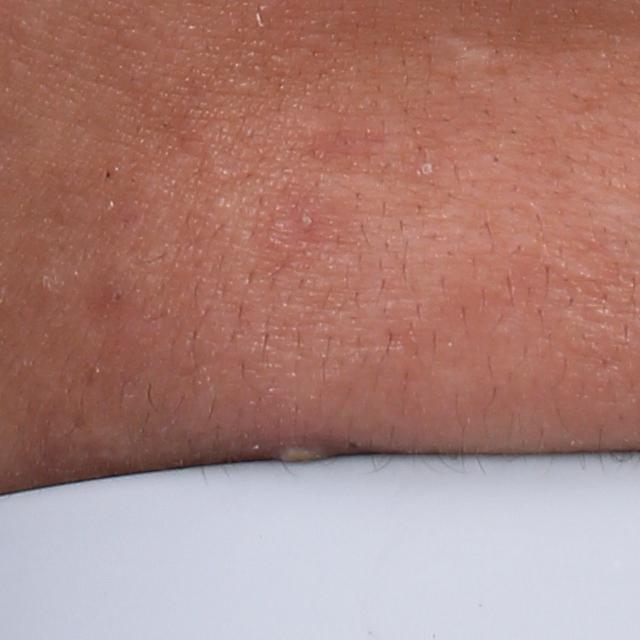comedo: (103, 288, 128, 309)
hypertrophic_scar: (444, 42, 502, 98)
